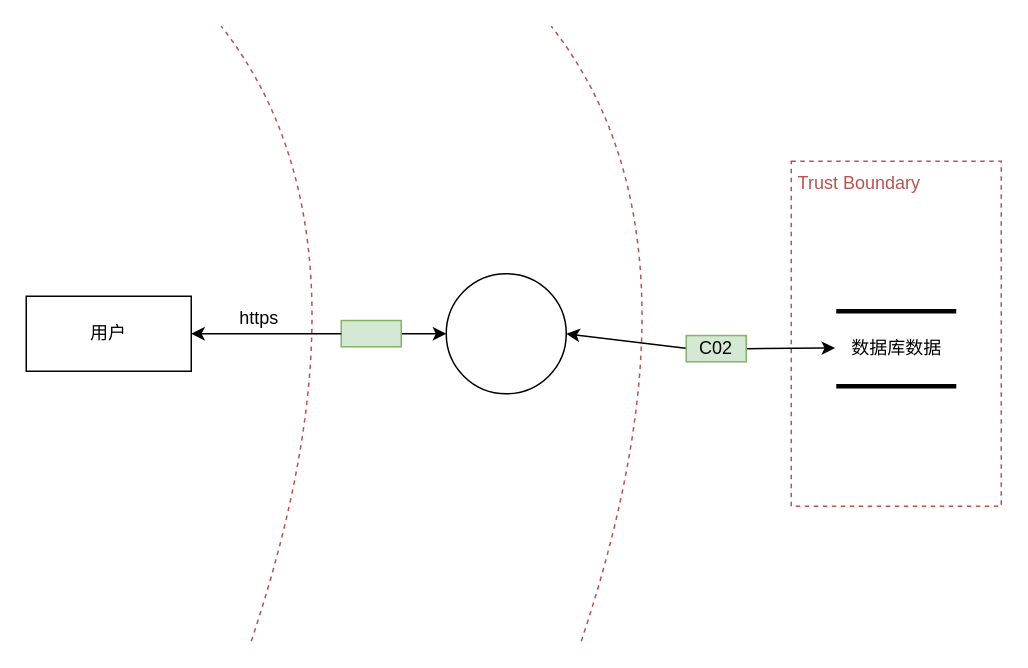
Some shapes in this 1028 by 668 pixel diagram are drawn without their labels. The shapes that lost their labels are listed below. From the top down, each one's box as (x1, y1, x2, y2) in pixels, then its label:
(340, 319, 401, 347): C01
(445, 272, 566, 394): 后端接口服务
